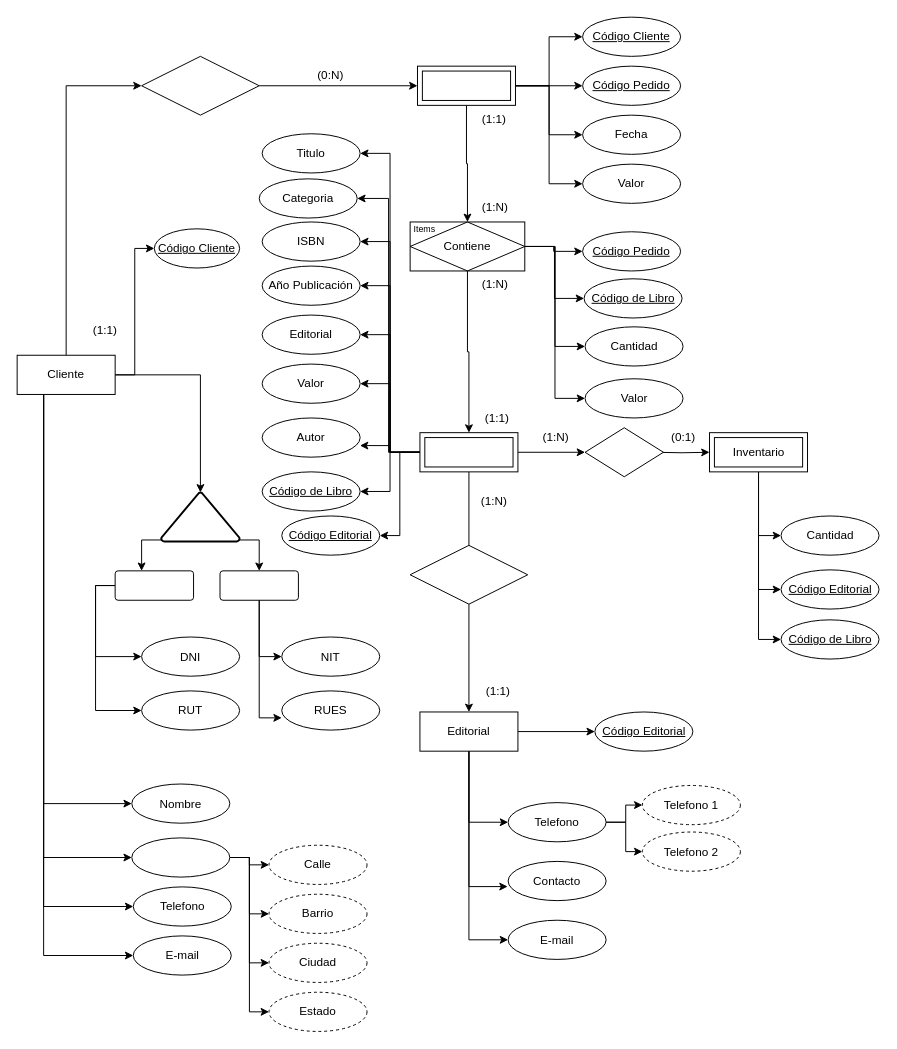
This 897x1049 diagram has some shape labels left out. Each missing label, with the centre of its shape:
"Dirección" belongs at point (180, 857).
"Existe" belongs at point (623, 452).
"ID" belongs at point (200, 516).
"Libro" belongs at point (468, 452).
"Pedido" belongs at point (465, 85).
"Pertenece" belongs at point (468, 574).
"PJ" belongs at point (258, 585).
"PN" belongs at point (154, 585).
"Realiza" belongs at point (200, 85).
